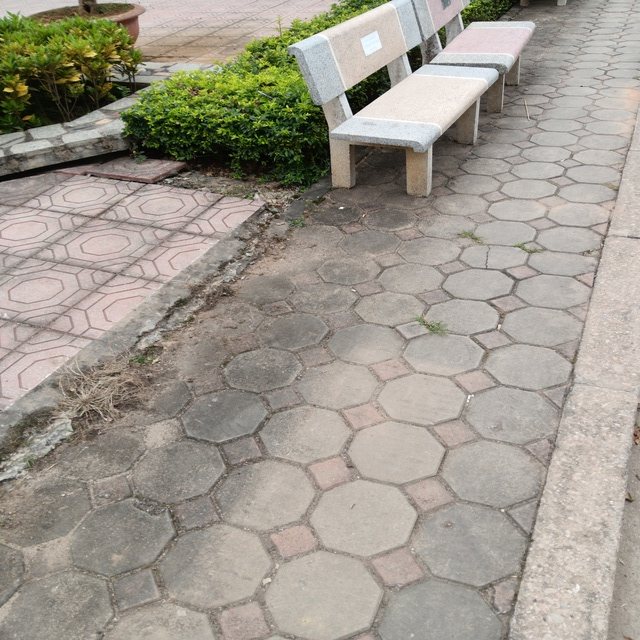gheda: (272, 2, 497, 208), (396, 3, 562, 104)
